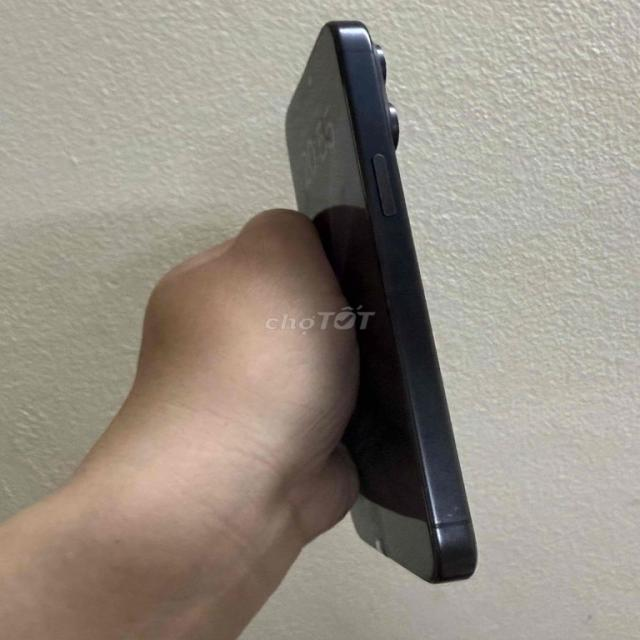gen_15: (263, 19, 508, 600)
